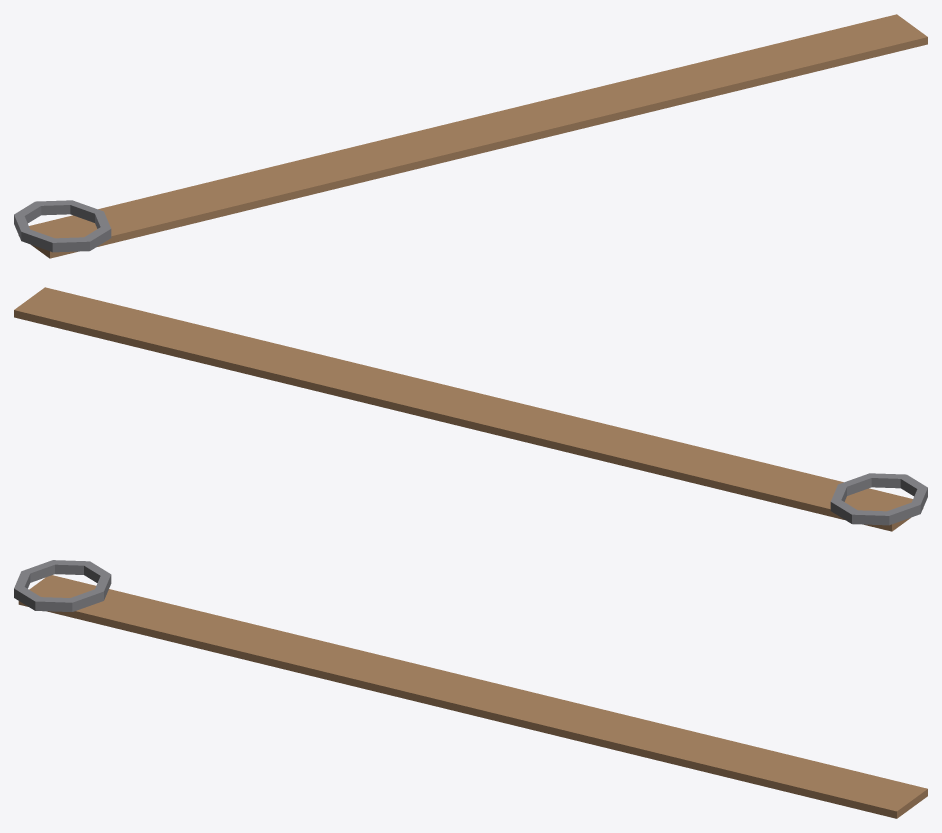
Rendered from prop-quiver-strap-blank.fbx.
3 views of the same model, one above another, from view 1: azimuth 30°, elevation 25°; view 2: azimuth 150°, elevation 25°; view 3: azimuth 330°, elevation 25° (orthographic).
Visible parts, largest first — view 1: prop-quiver-strap-blank; view 2: prop-quiver-strap-blank; view 3: prop-quiver-strap-blank.
Part boxes in pixels (box(x1,y1,x2,y2)): prop-quiver-strap-blank: box(14, 14, 927, 258); prop-quiver-strap-blank: box(14, 287, 927, 531); prop-quiver-strap-blank: box(14, 560, 927, 818).
Size of the model in its own units: 62.92 by 1.27 by 6.71.
